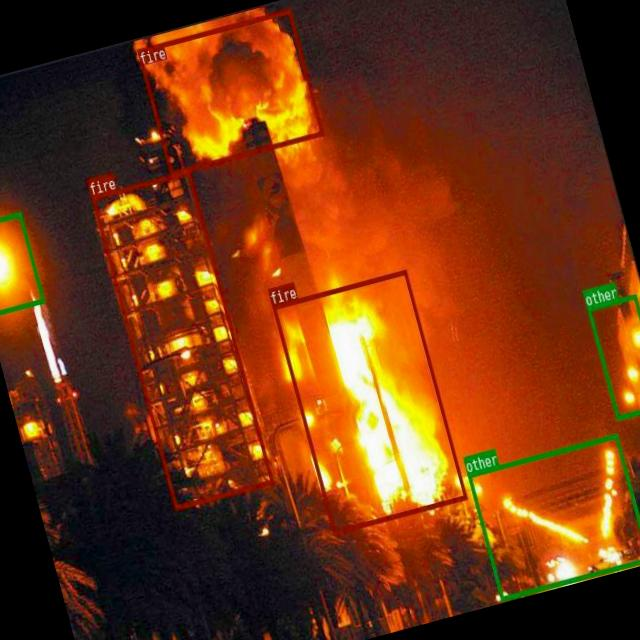fire: (90, 168, 273, 508), (270, 268, 467, 534), (136, 7, 323, 175)
